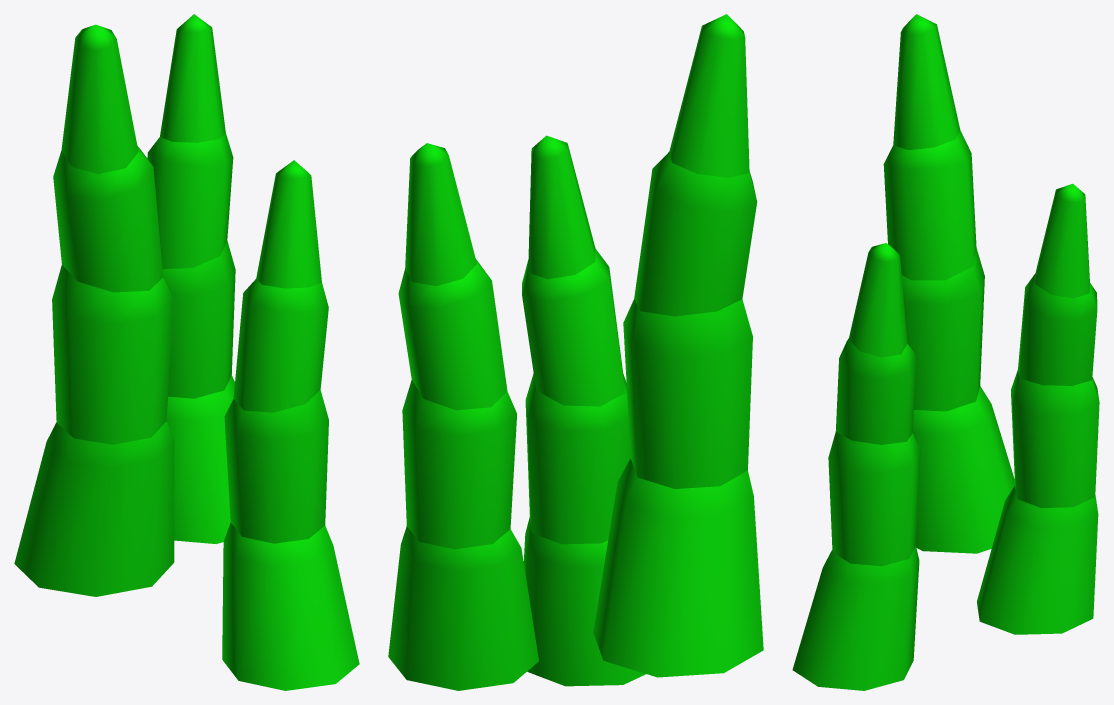
The model's file is m_spire4.fbx.
3 renders of one model, left to right at view 1: azimuth 30°, elevation 25°; view 2: azimuth 150°, elevation 25°; view 3: azimuth 270°, elevation 25°, orthographic. The views are drawn at different scales.
Visible parts, largest first — view 1: m_spire4; view 2: m_spire4; view 3: m_spire4.
Boxes of the visible parts, left/top/right/bottom form: m_spire4: left=14, top=14, right=359, bottom=690; m_spire4: left=388, top=14, right=763, bottom=690; m_spire4: left=792, top=14, right=1099, bottom=690.
Size of the model in its own units: 1.23 by 2.77 by 1.32.
